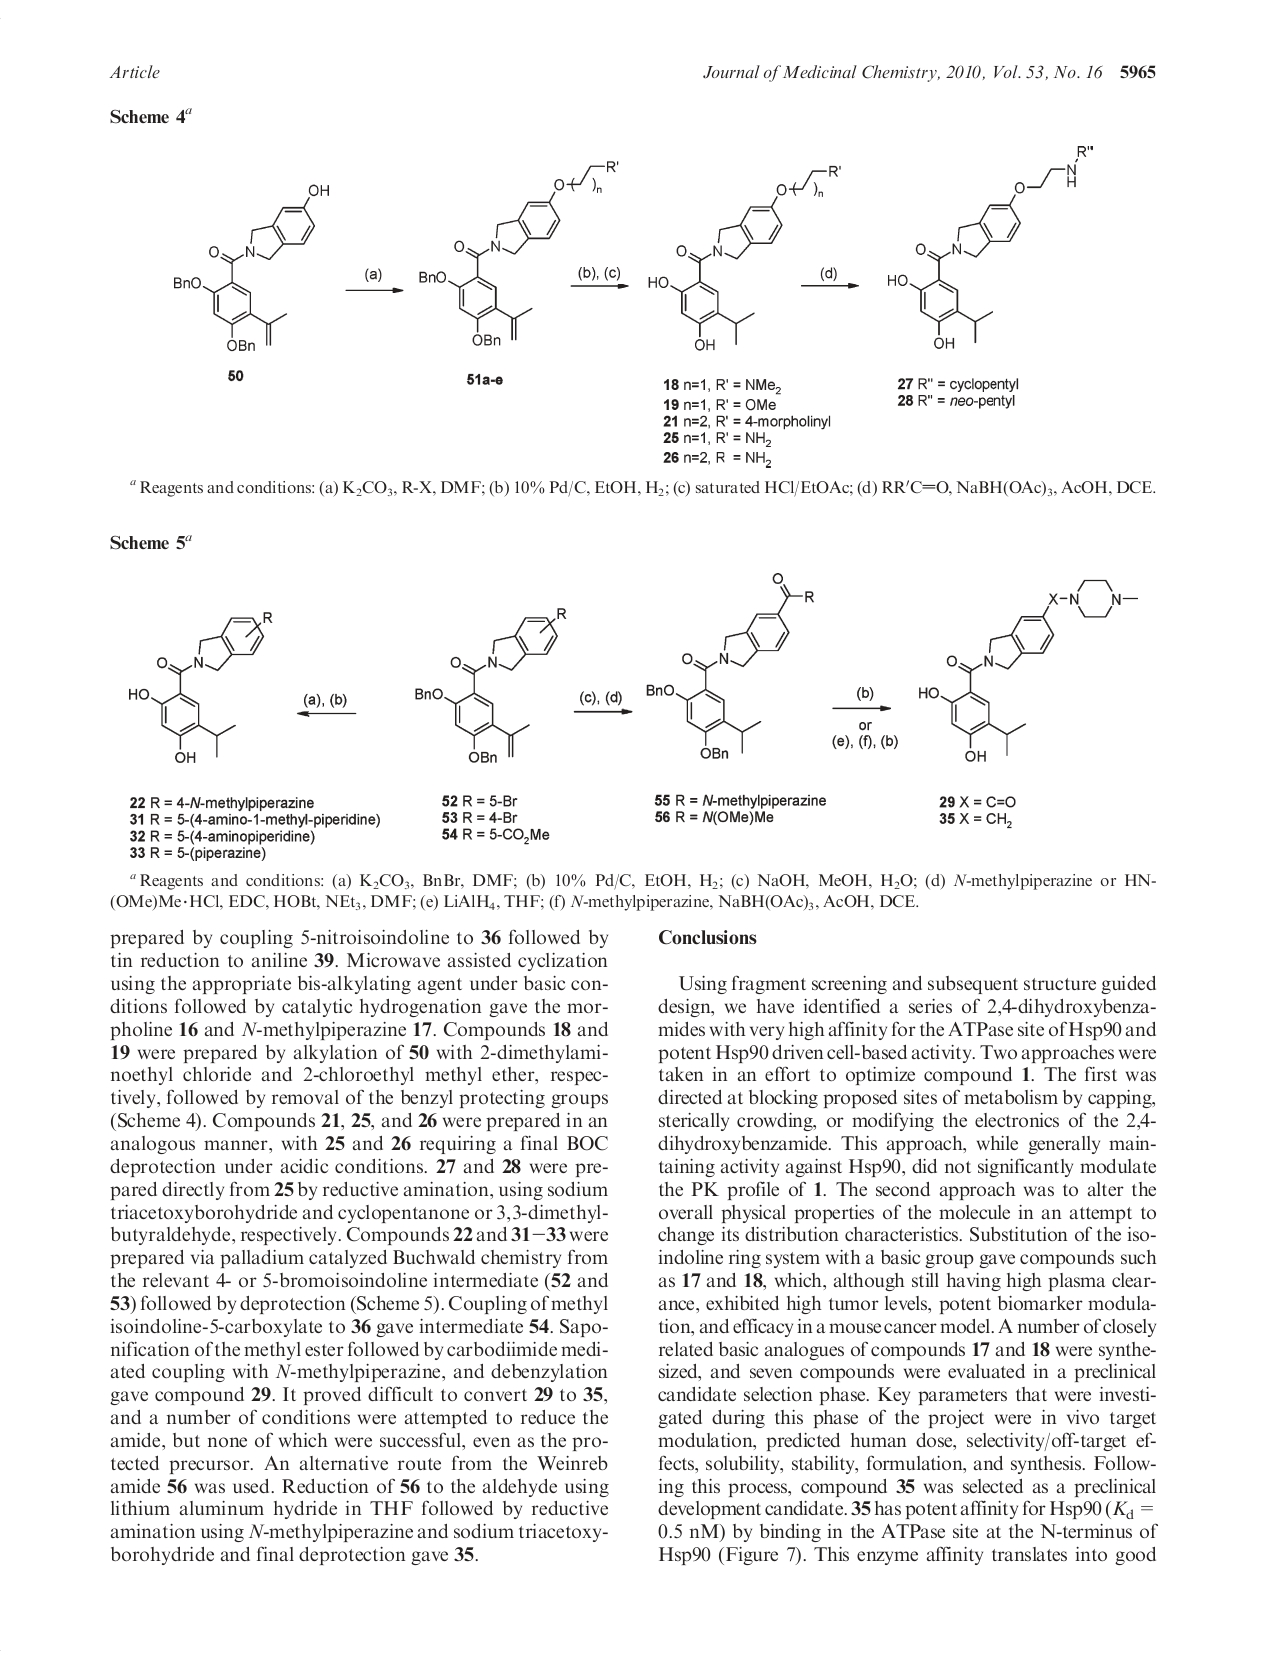exist_molecular: (911, 561, 1146, 767), (883, 140, 1104, 348), (415, 153, 632, 348), (644, 154, 843, 354), (644, 560, 823, 770), (160, 174, 339, 360), (404, 594, 582, 777), (120, 600, 277, 765)
